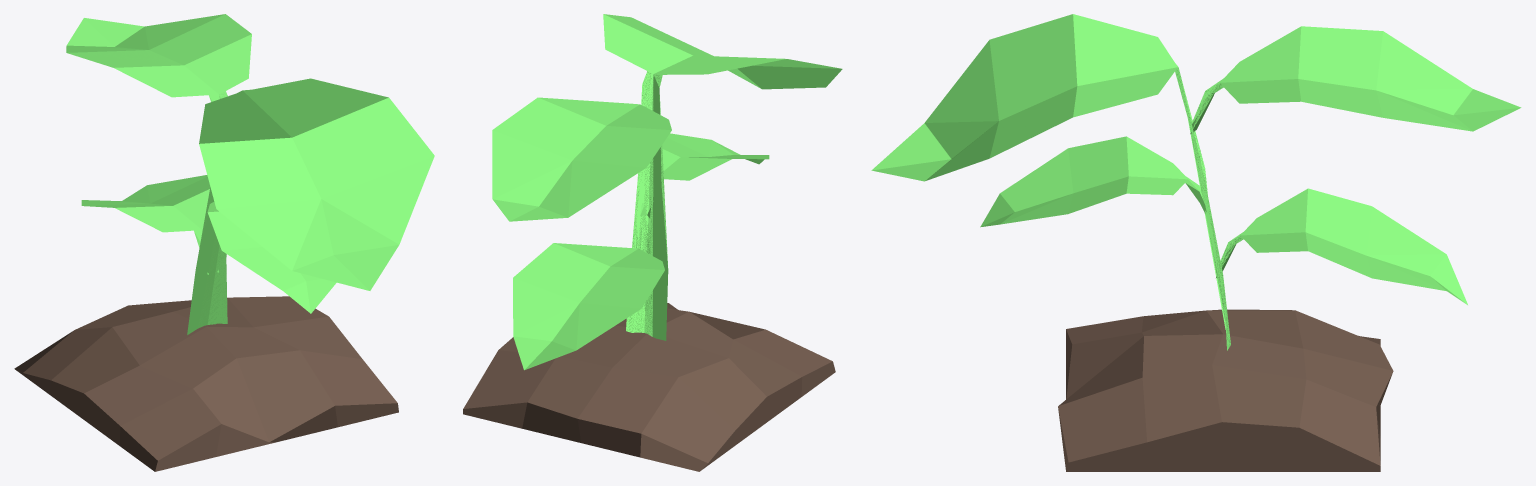
Rendered from 3dplant2.glb.
3 renders of one model, left to right at view 1: azimuth 30°, elevation 25°; view 2: azimuth 150°, elevation 25°; view 3: azimuth 270°, elevation 25°, orthographic. The views are drawn at different scales.
Parts seen in each view (by area): view 1: Cube, Leaf1, Leaf1.001, Leaf1.002, Leaf1.003; view 2: Cube, Leaf1.001, Leaf1.002, Leaf1, Leaf1.003; view 3: Cube, Leaf1, Leaf1.001, Leaf1.002, Leaf1.003.
Boxes of the visible parts, box(x1,y1,x2,y2) form: Cube: box(14, 296, 398, 471); Leaf1: box(187, 78, 434, 334); Leaf1.001: box(66, 14, 251, 101); Leaf1.002: box(81, 175, 218, 274); Leaf1.003: box(207, 202, 336, 313); Cube: box(463, 303, 835, 471); Leaf1.001: box(492, 97, 671, 221); Leaf1.002: box(513, 243, 664, 370); Leaf1: box(603, 14, 842, 340); Leaf1.003: box(640, 133, 769, 218); Cube: box(1058, 309, 1393, 471); Leaf1: box(871, 14, 1230, 350); Leaf1.001: box(1190, 26, 1521, 133); Leaf1.002: box(1216, 188, 1467, 304); Leaf1.003: box(980, 136, 1206, 227).
Bounding box in the file's own units: 1.96 × 2.4 × 4.03.
